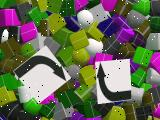Right: (13, 46, 71, 104), (95, 59, 132, 104)
